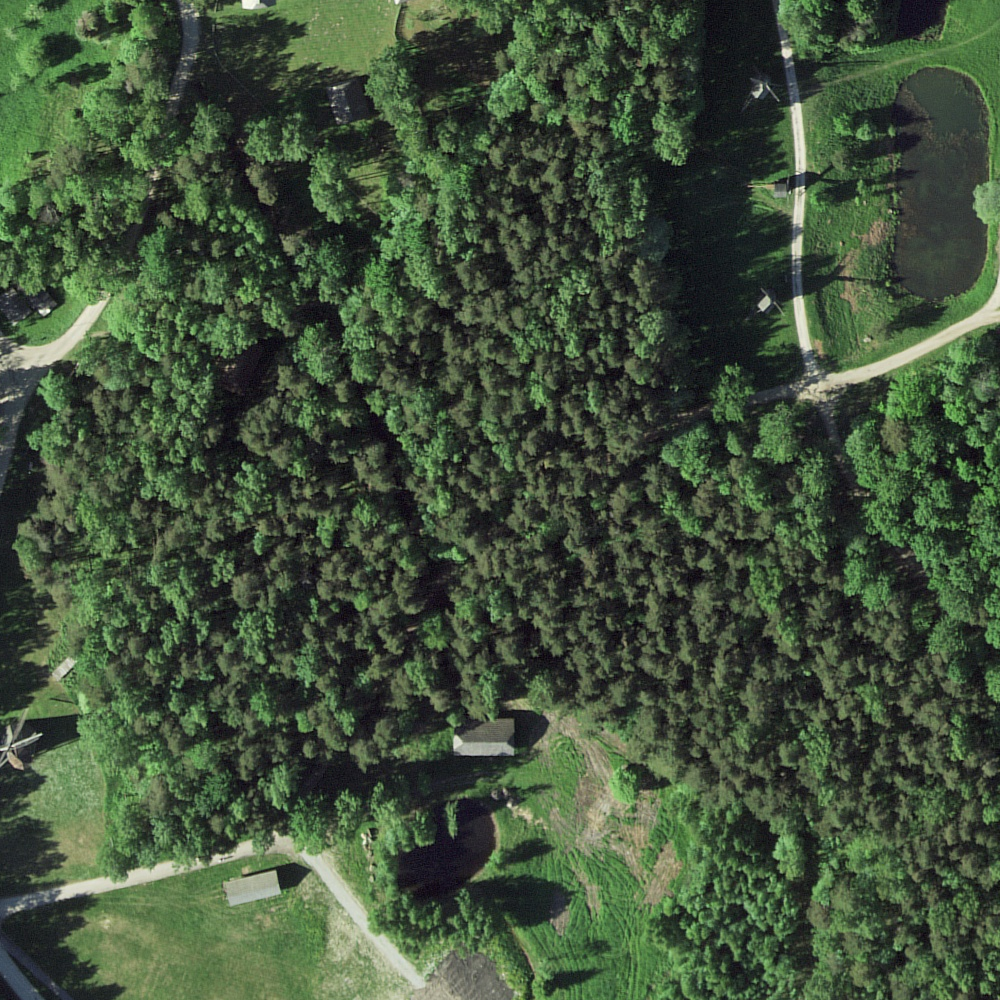building: (455, 718, 516, 756), (326, 78, 371, 126), (225, 871, 282, 906), (17, 285, 59, 317), (752, 77, 774, 100), (757, 294, 778, 315), (242, 1, 268, 10), (774, 185, 786, 199)
